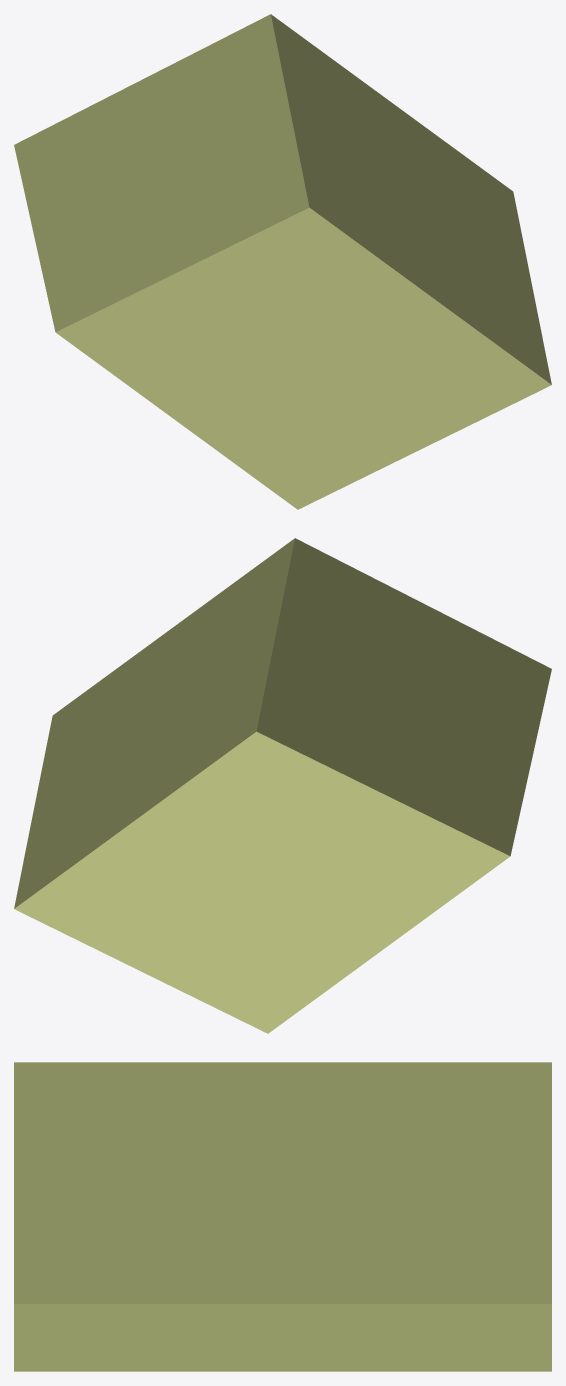
3 views of the same model, one above another, from view 1: azimuth 30°, elevation 25°; view 2: azimuth 150°, elevation 25°; view 3: azimuth 270°, elevation 25° (orthographic). The views are drawn at different scales.
Parts seen in each view (by area): view 1: 0_1_2_0_3_3_0_3_1_3_1; view 2: 0_1_2_0_3_3_0_3_1_3_1; view 3: 0_1_2_0_3_3_0_3_1_3_1.
Boxes of the visible parts, <box> form: 0_1_2_0_3_3_0_3_1_3_1: <box>14,14,551,509</box>; 0_1_2_0_3_3_0_3_1_3_1: <box>14,538,551,1033</box>; 0_1_2_0_3_3_0_3_1_3_1: <box>14,1062,551,1371</box>.
Bounding box in the file's own units: 6.33 × 5.44 × 9.
